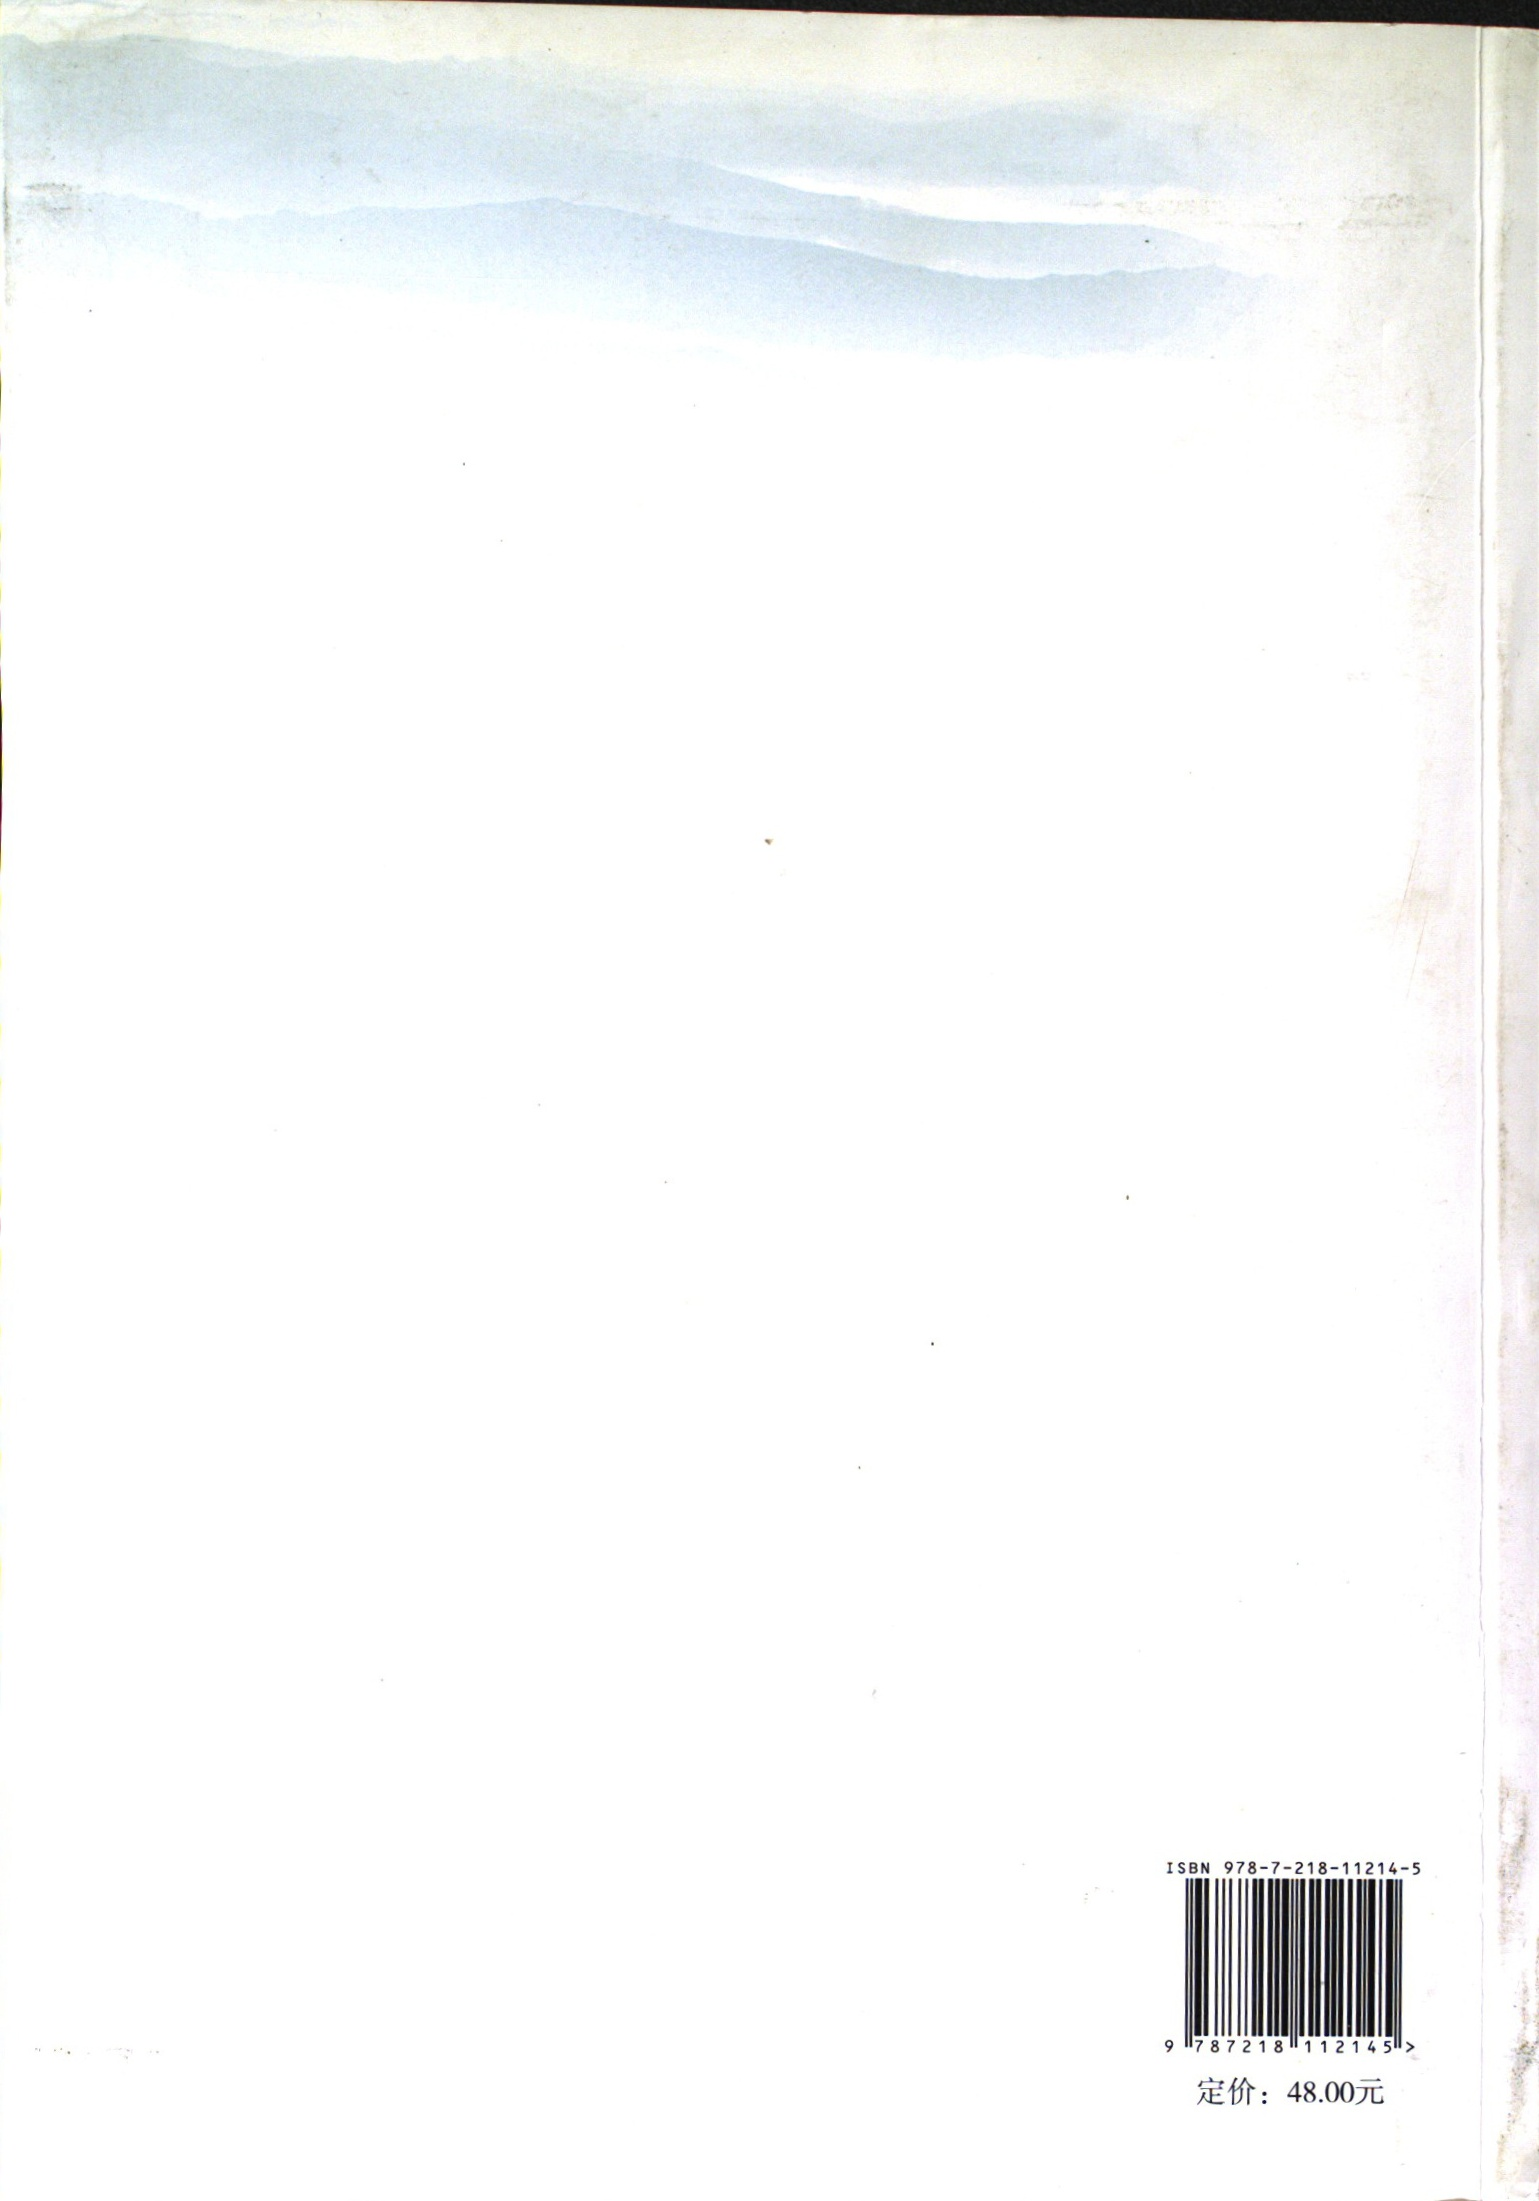barcode: (1104, 1826, 1454, 2066)
